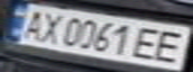0: (57, 15, 84, 48), (75, 17, 100, 51)
1: (109, 21, 136, 56)
6: (90, 19, 115, 54)
A: (15, 7, 51, 40)
E: (148, 28, 193, 64), (130, 25, 169, 62)
X: (33, 10, 66, 45)
